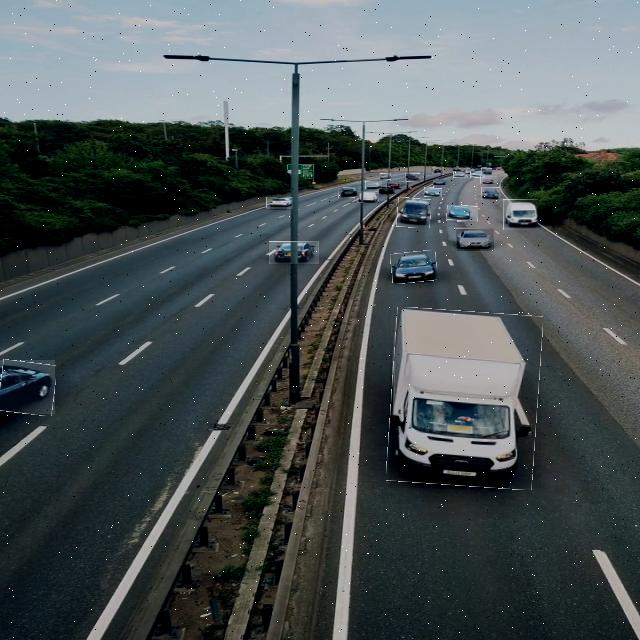Car: (0, 360, 55, 414), (390, 251, 437, 283), (269, 241, 319, 264), (456, 228, 494, 251), (447, 206, 478, 222), (266, 198, 293, 210), (357, 191, 379, 203), (481, 187, 500, 200), (338, 187, 359, 198), (424, 188, 442, 197), (365, 181, 382, 189), (480, 176, 497, 184), (378, 186, 393, 194), (405, 174, 420, 182), (433, 180, 447, 188), (388, 182, 406, 188), (432, 167, 444, 175), (453, 172, 468, 178), (470, 172, 485, 178), (379, 173, 391, 180), (481, 168, 492, 175)
Truck: (389, 310, 541, 488), (503, 199, 538, 230), (396, 198, 431, 227)
